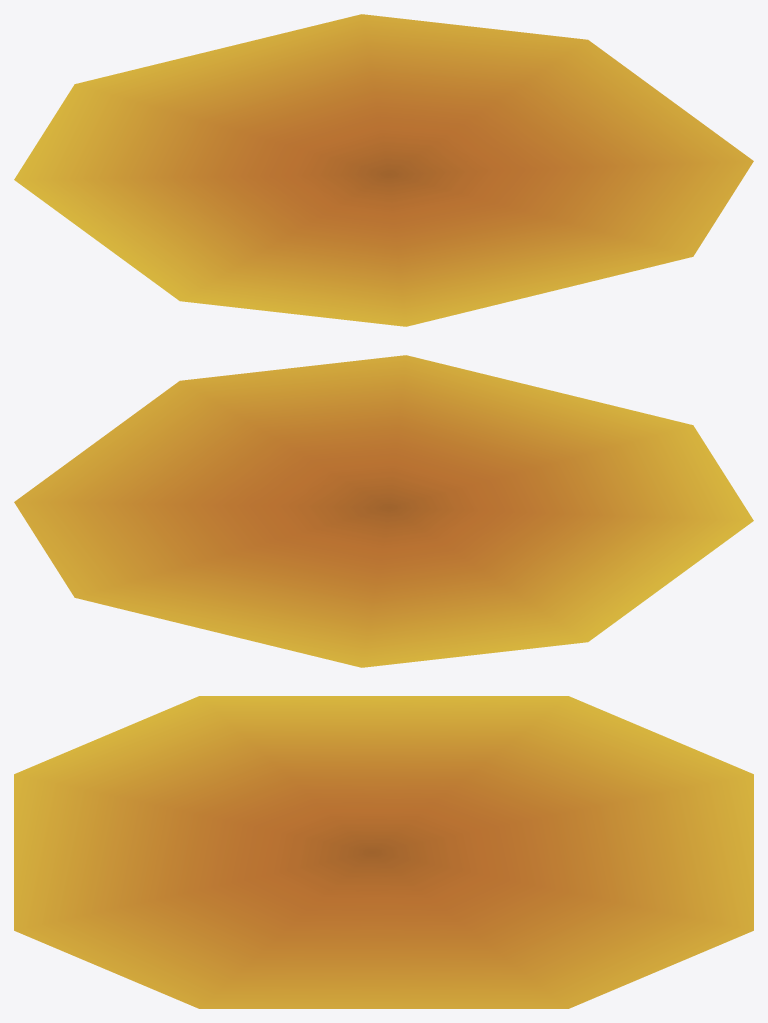
File: soup_bowl_half_orange.fbx
3 renders of one model, top to bottom at view 1: azimuth 30°, elevation 25°; view 2: azimuth 150°, elevation 25°; view 3: azimuth 270°, elevation 25°, orthographic. The views are drawn at different scales.
Parts seen in each view (by area): view 1: soup_bowl_half_orange; view 2: soup_bowl_half_orange; view 3: soup_bowl_half_orange.
Boxes of the visible parts, x1=… form: soup_bowl_half_orange: x1=14, y1=14, x2=753, y2=326; soup_bowl_half_orange: x1=14, y1=355, x2=753, y2=667; soup_bowl_half_orange: x1=14, y1=696, x2=753, y2=1008.
Bounding box in the file's own units: 17.22 × 2.05e-05 × 17.22.
